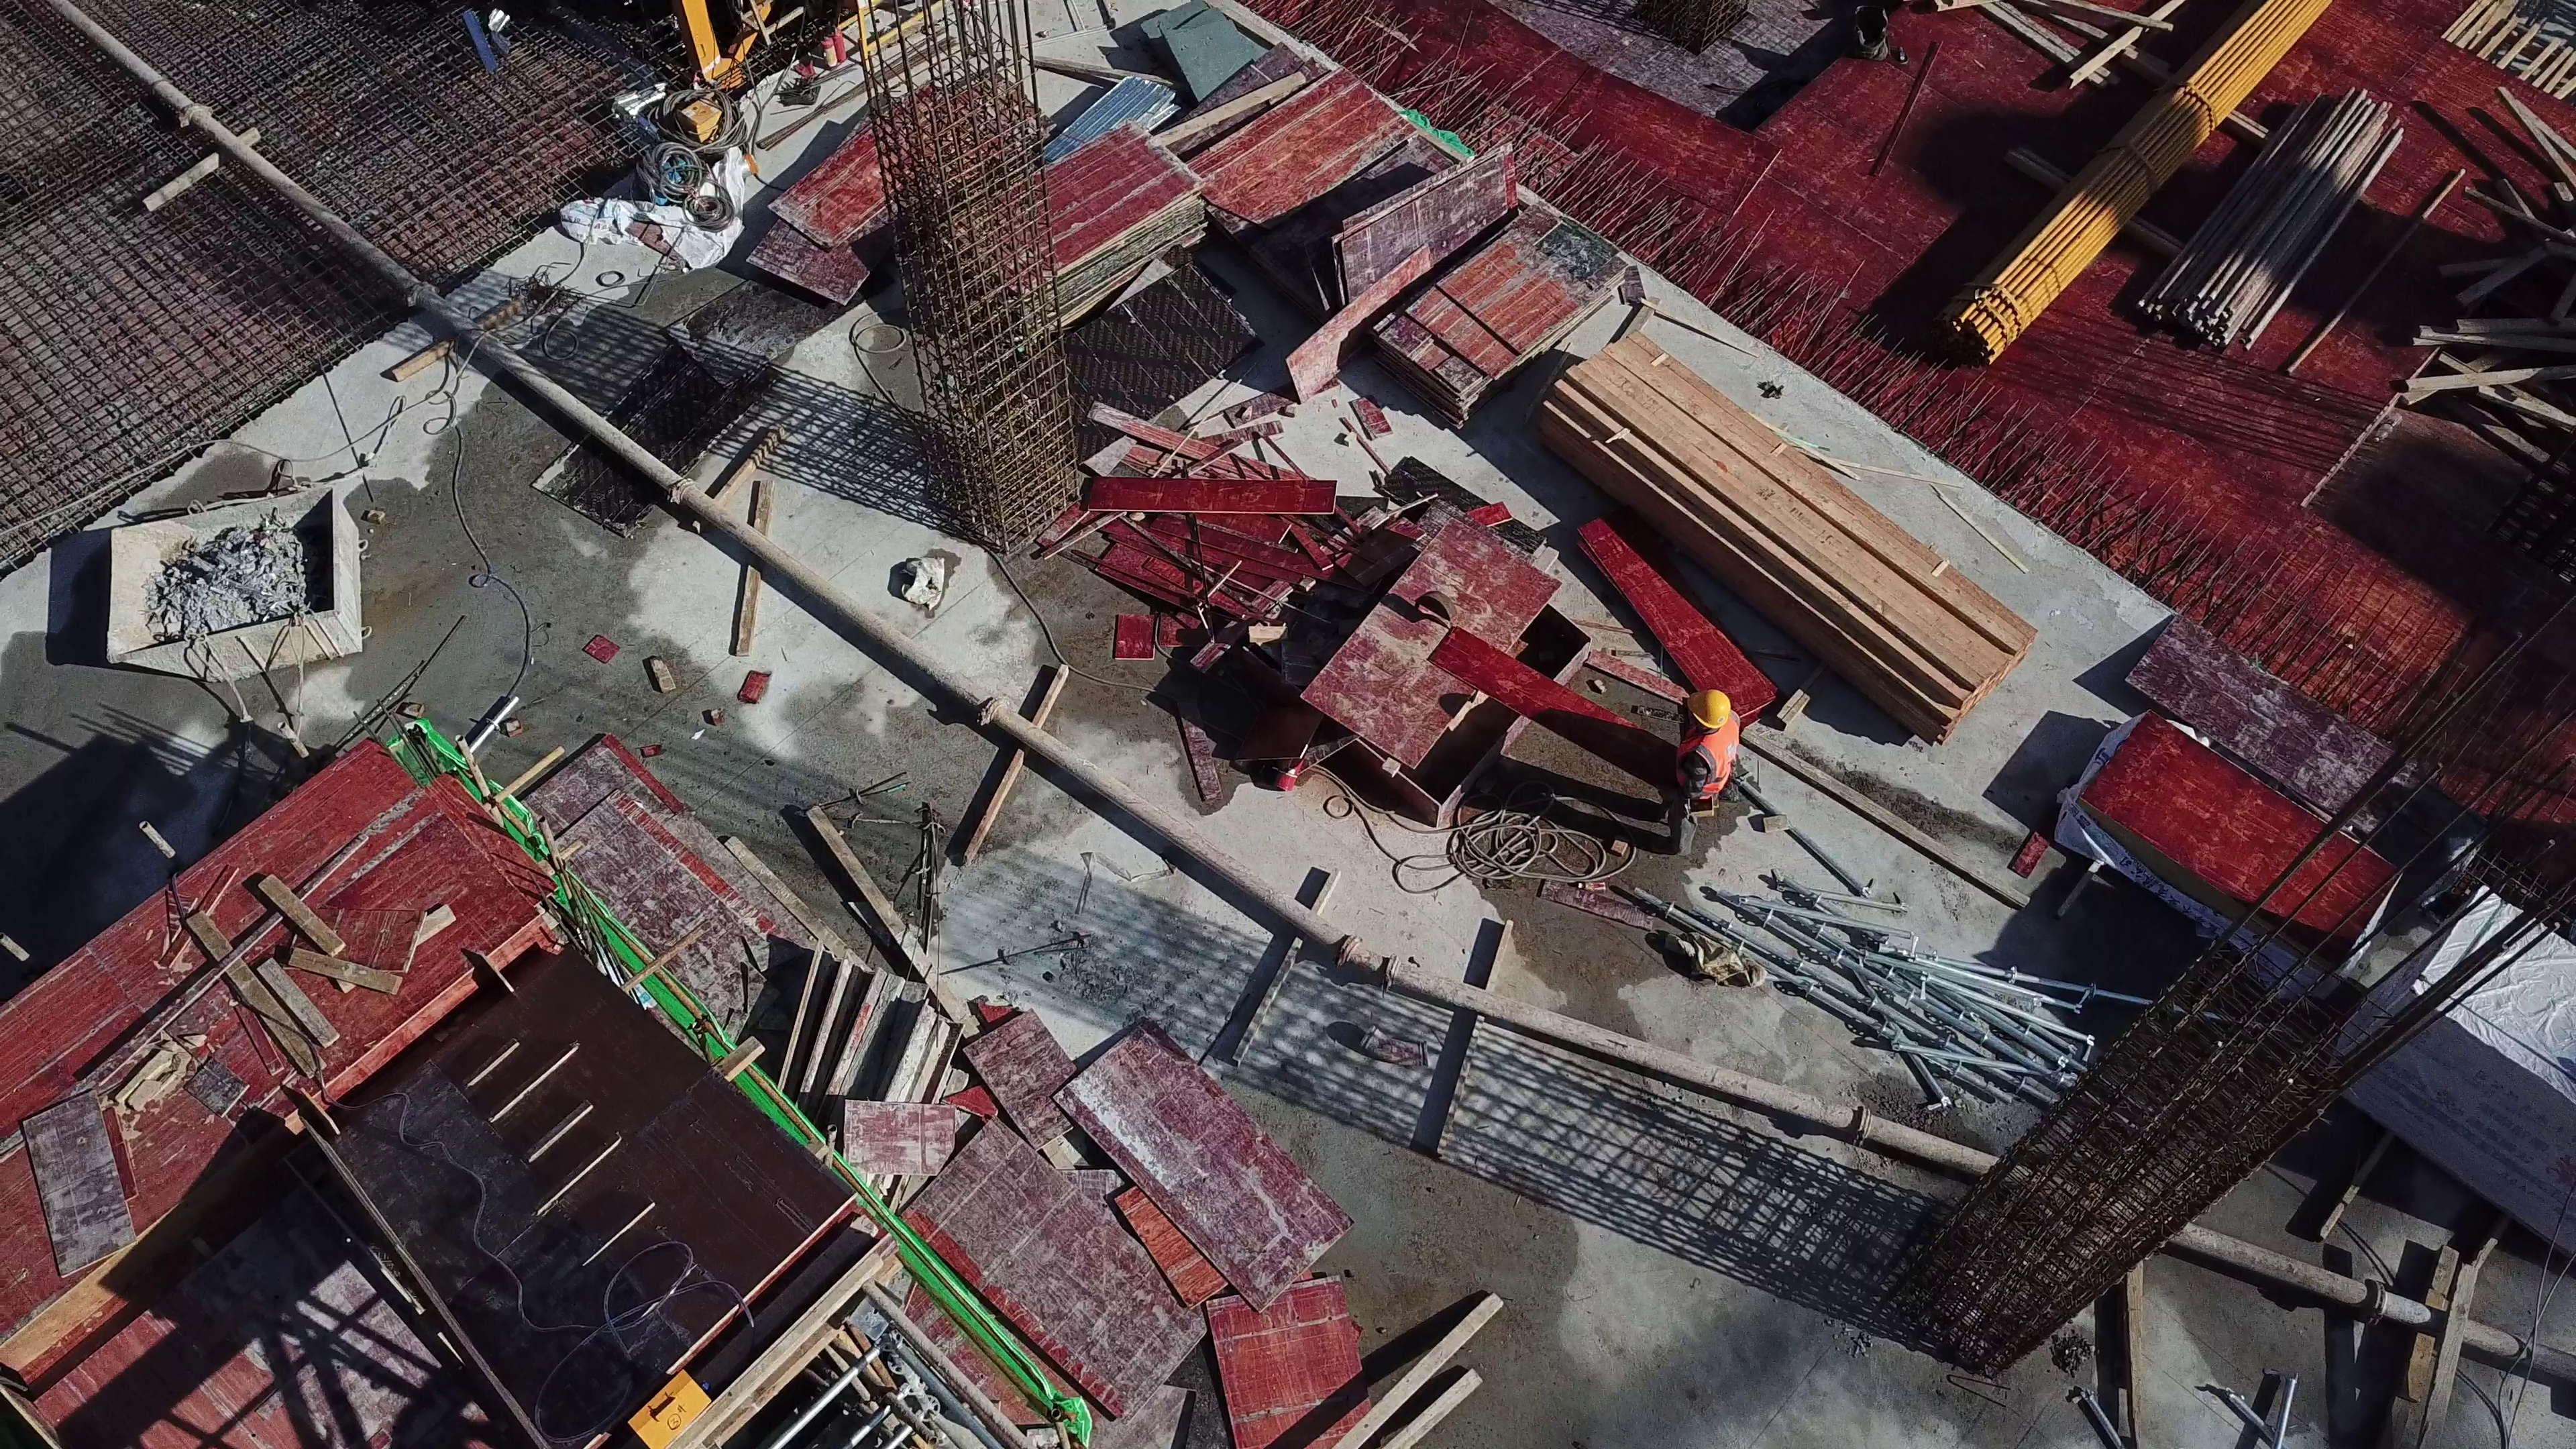board: (1307, 513, 1572, 773), (1372, 200, 1642, 405), (1057, 117, 1215, 316), (738, 101, 882, 311), (1220, 72, 1433, 193)
helmet: (1682, 690, 1729, 727)
hopper: (101, 482, 379, 685)
person: (1659, 674, 1754, 833)
vest: (1678, 728, 1742, 797)
wood: (1568, 325, 2021, 720)
